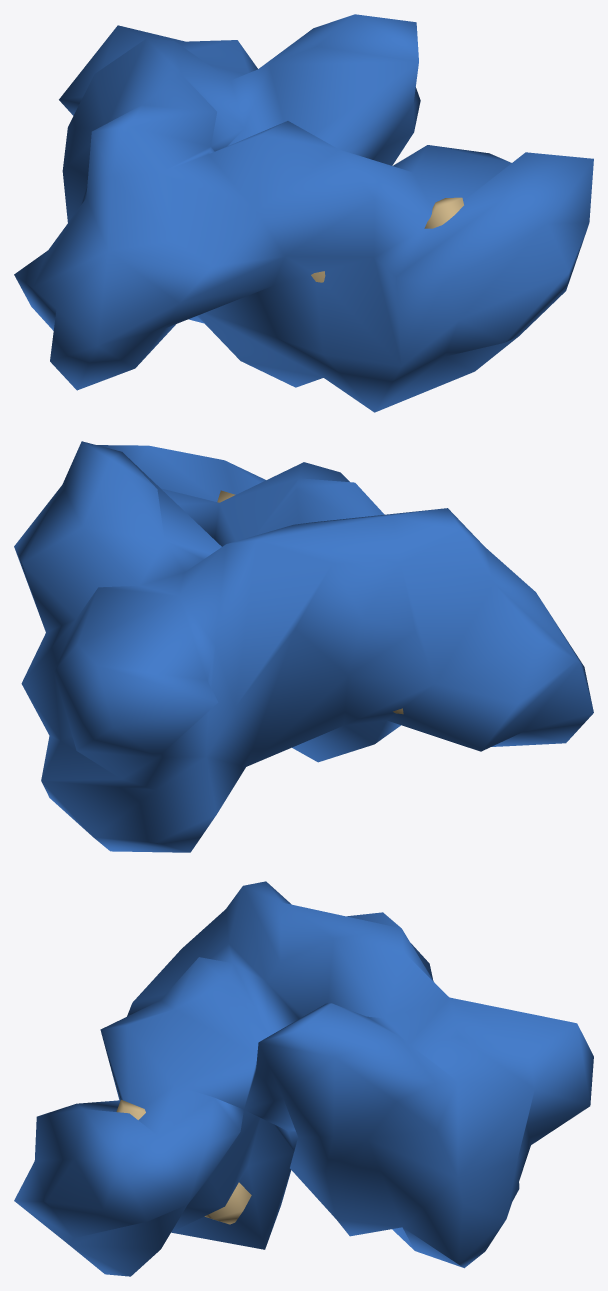
The model's file is BloodPlasma_Albumin_1gni_0_1_0.dae.
3 renders of one model, top to bottom at view 1: azimuth 30°, elevation 25°; view 2: azimuth 150°, elevation 25°; view 3: azimuth 270°, elevation 25°, orthographic. The views are drawn at different scales.
Visible parts, largest first — view 1: CoarseMS_1gni_Selection0, Oleic_Acids; view 2: CoarseMS_1gni_Selection0; view 3: CoarseMS_1gni_Selection0, Oleic_Acids.
Boxes of the visible parts, left/top/right/bottom form: CoarseMS_1gni_Selection0: left=14, top=14, right=593, bottom=412; Oleic_Acids: left=311, top=197, right=463, bottom=282; CoarseMS_1gni_Selection0: left=14, top=441, right=593, bottom=852; CoarseMS_1gni_Selection0: left=14, top=881, right=593, bottom=1276; Oleic_Acids: left=116, top=1099, right=251, bottom=1224.
Size of the model in its own units: 89.34 by 50.53 by 89.41.
